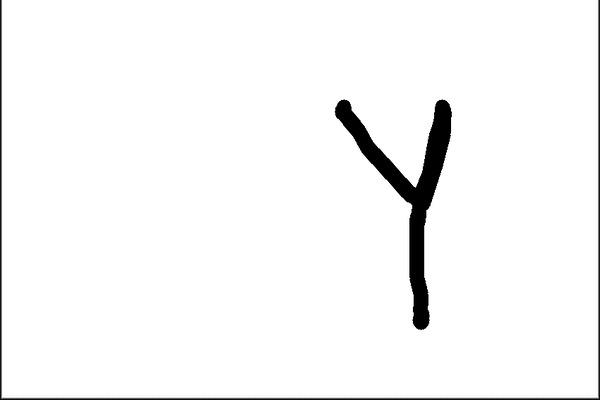Y: (322, 89, 485, 337)
